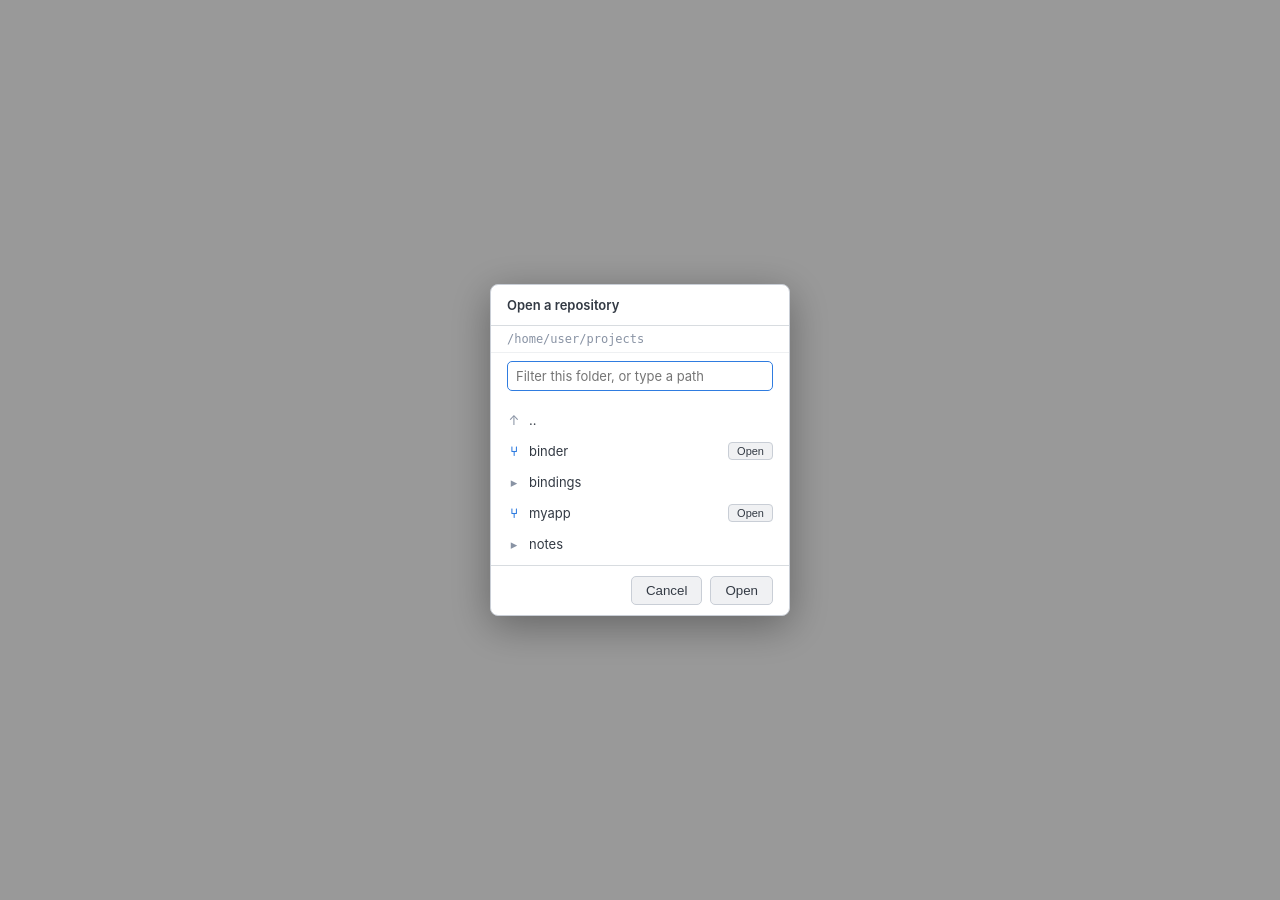
it: RepoPicker search › says how much of the folder is showing while filtering
The image size is (1280, 900).
Expected: the text "notes" is shown, [529,536,563,552]
Step 1. Type "bin" into the field with placeholder "Filter this folder, or type a path" → (640, 376), box [507,361,773,391]
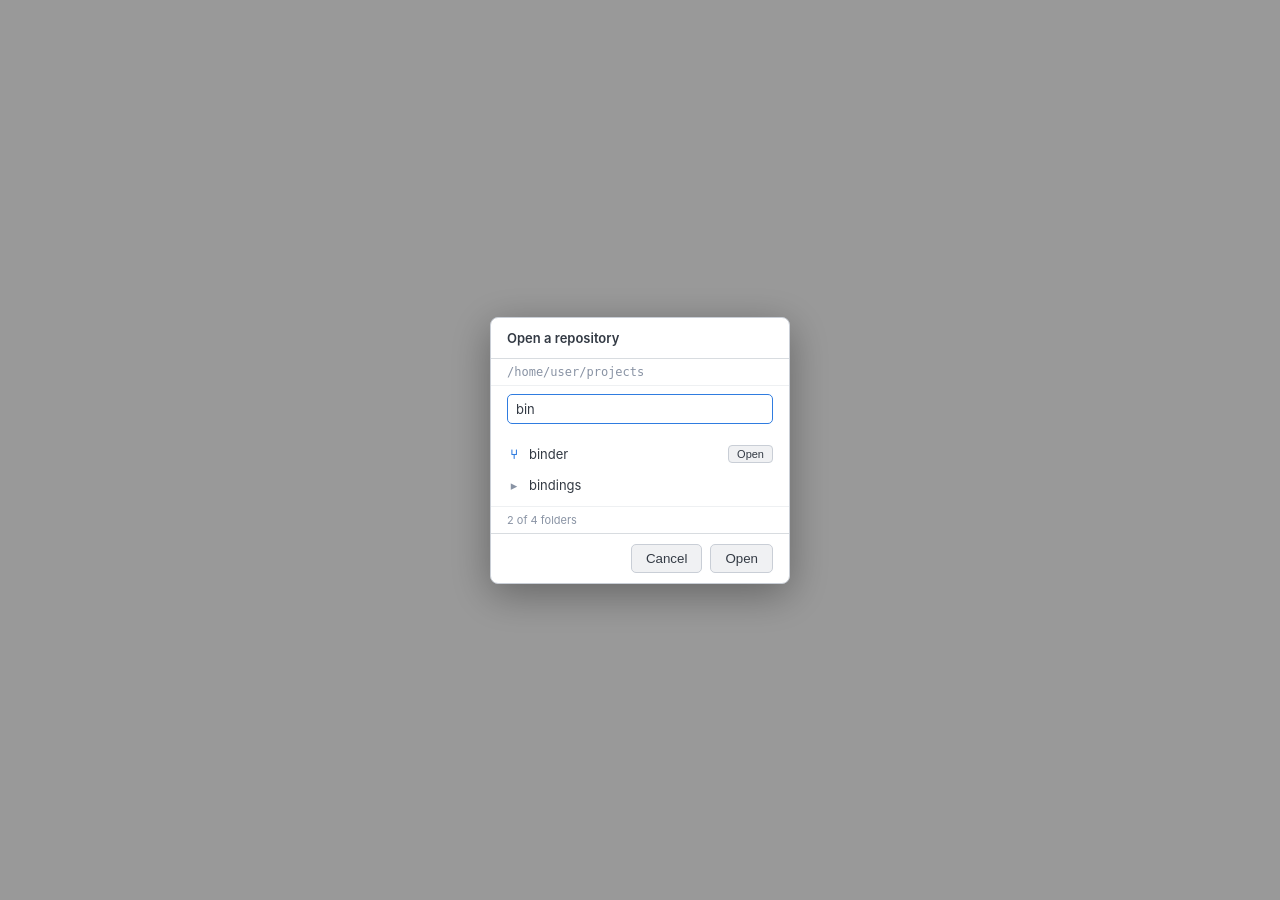
Now the text "2 of 4 folders" is shown, box [491,506,789,532]
